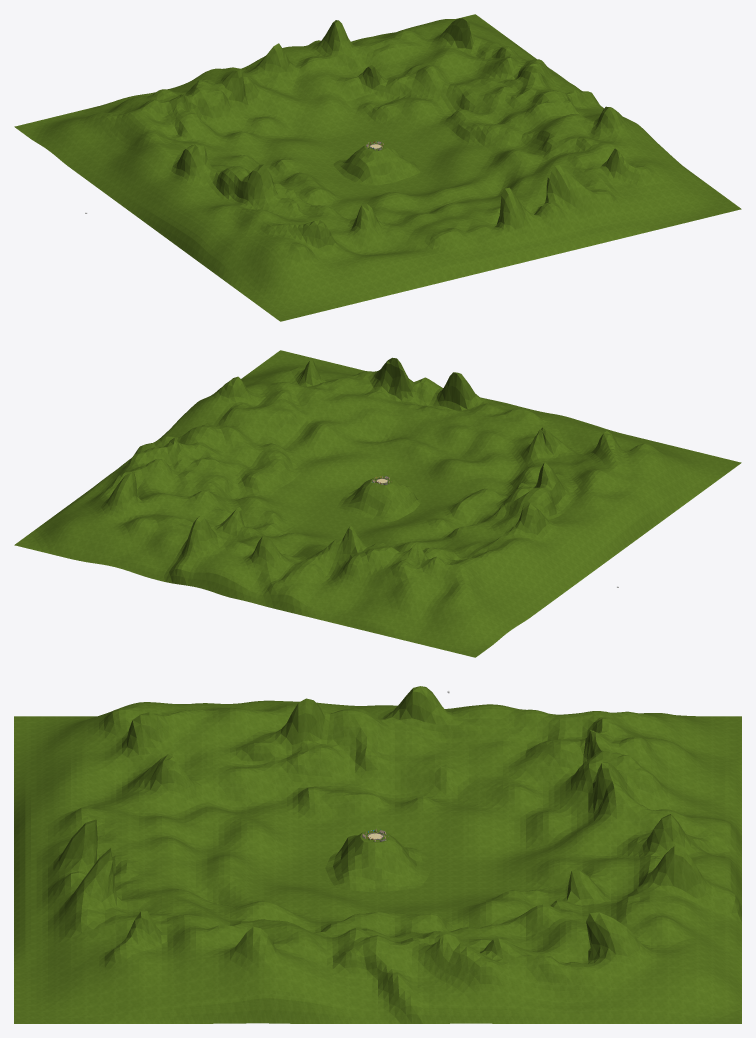
The model's file is arena.fbx.
3 views of the same model, one above another, from view 1: azimuth 30°, elevation 25°; view 2: azimuth 150°, elevation 25°; view 3: azimuth 270°, elevation 25° (orthographic). The views are drawn at different scales.
Parts seen in each view (by area): view 1: Décors, Arène; view 2: Décors, Arène; view 3: Décors, Arène.
Boxes of the visible parts, x1,y1,x2,y2 form: Décors: (14, 14, 741, 321); Arène: (333, 142, 420, 186); Décors: (14, 350, 741, 657); Arène: (336, 476, 420, 521); Décors: (14, 686, 741, 1023); Arène: (318, 830, 431, 892).
Bounding box in the file's own units: 766383 × 84257 × 710661.
25 materials, 25 textured.
